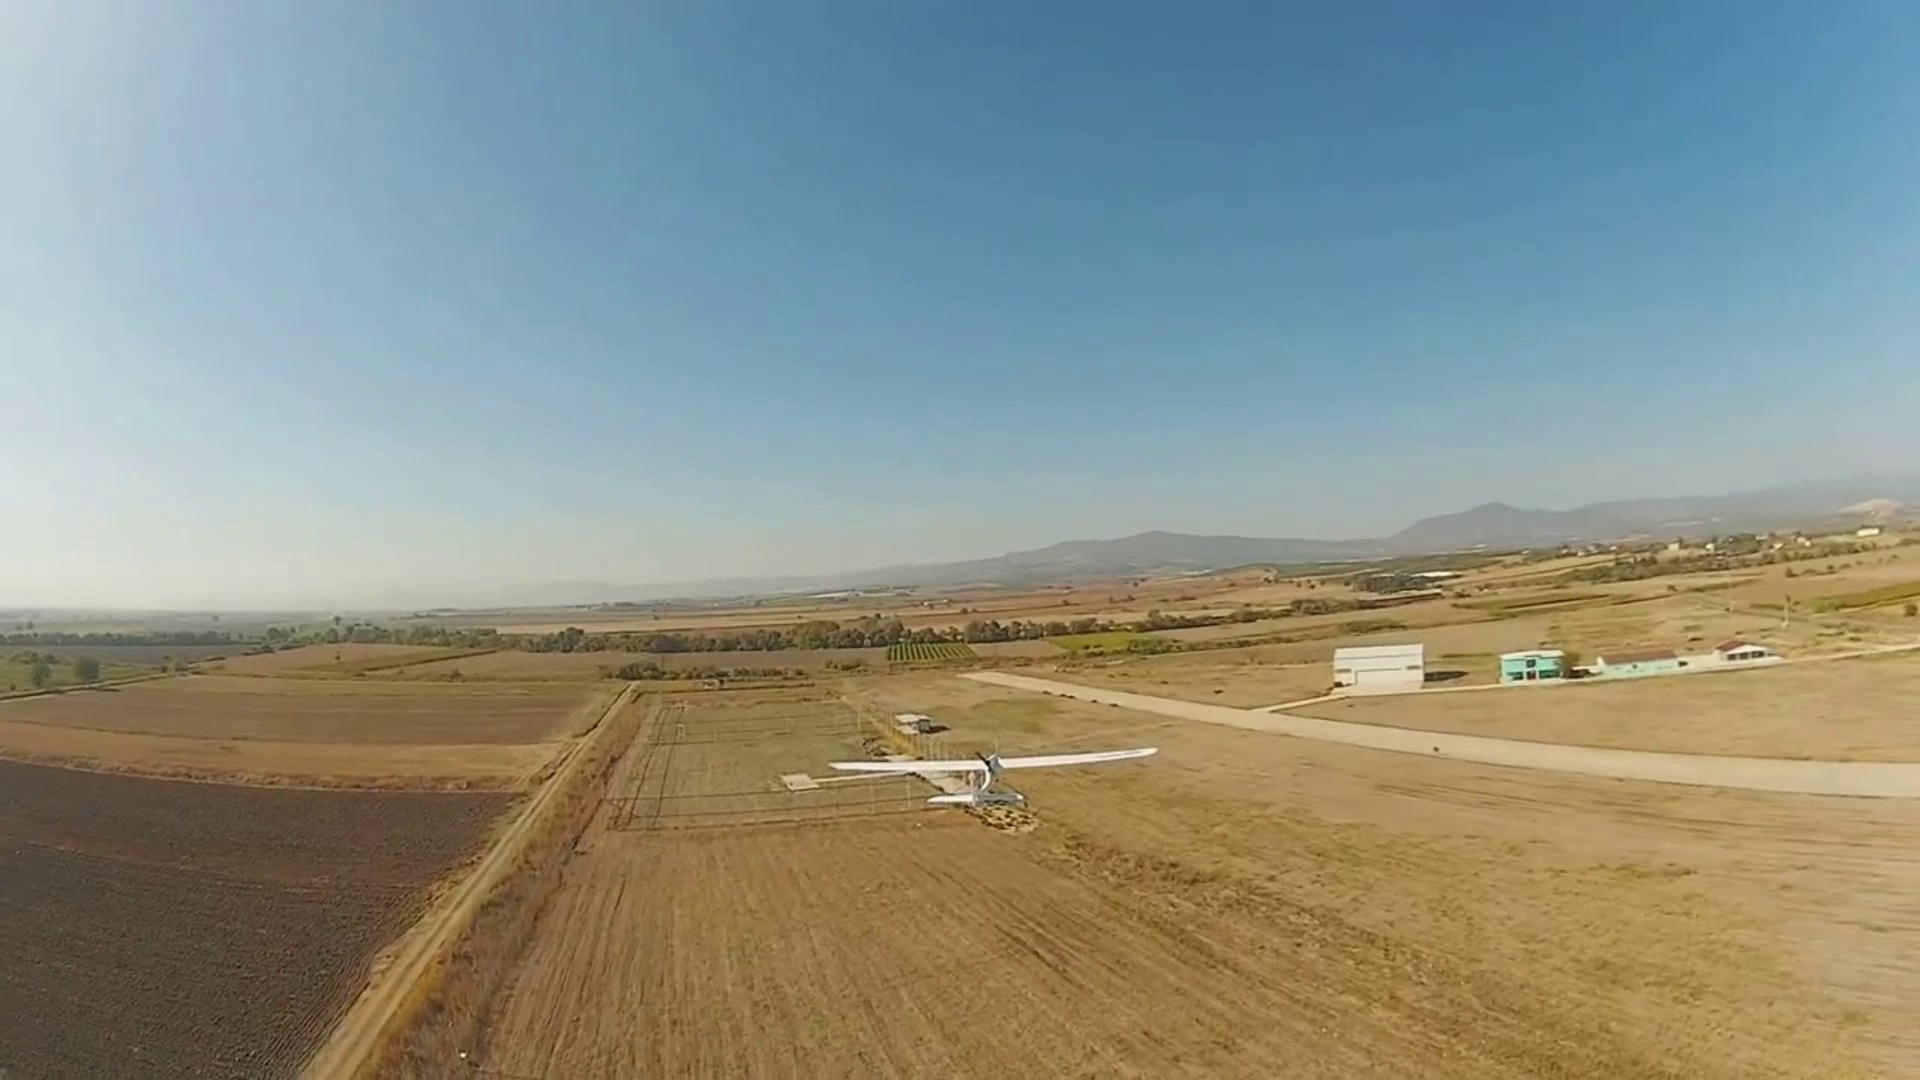airplane: (825, 717, 1166, 823)
